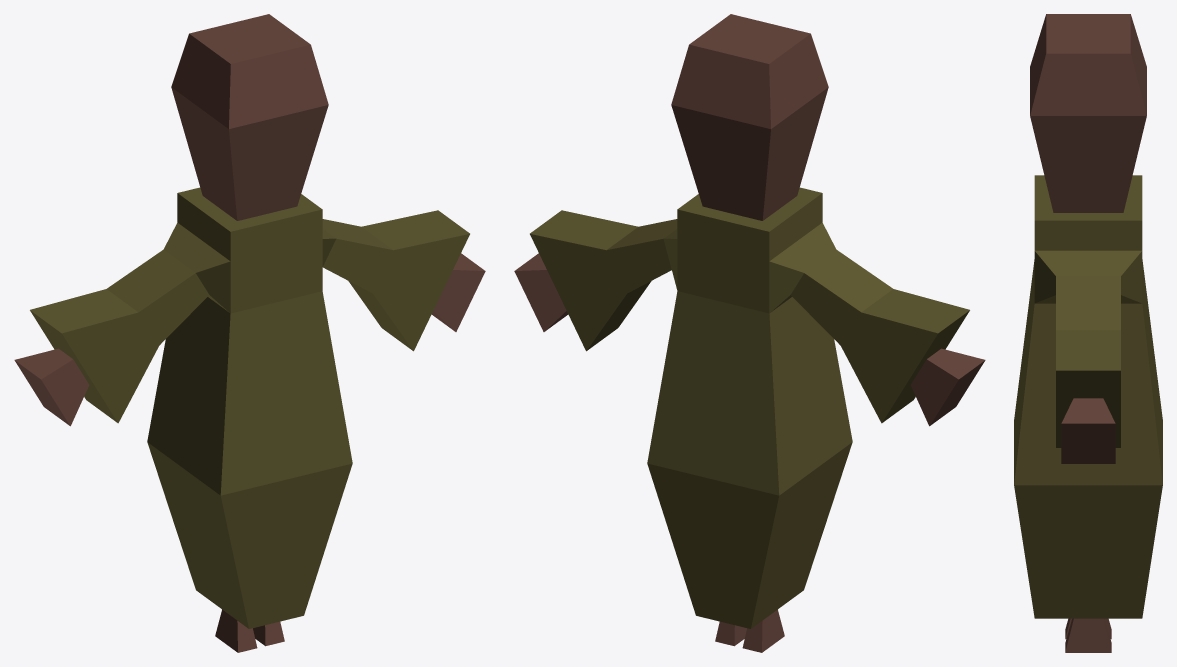
Rendered from vodoo.fbx.
The picture shows the model from 3 angles, left to right: view 1: azimuth 30°, elevation 25°; view 2: azimuth 150°, elevation 25°; view 3: azimuth 270°, elevation 25°; orthographic projection.
Visible parts, largest first — view 1: Cube.002; view 2: Cube.002; view 3: Cube.002.
Part boxes in pixels (x1,y1,x2,y2): Cube.002: (14,14,485,652); Cube.002: (514,14,985,652); Cube.002: (1014,14,1162,652).
Size of the model in its own units: 85.8 by 111 by 24.56.
